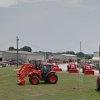Tractor: (14, 48, 75, 93)
